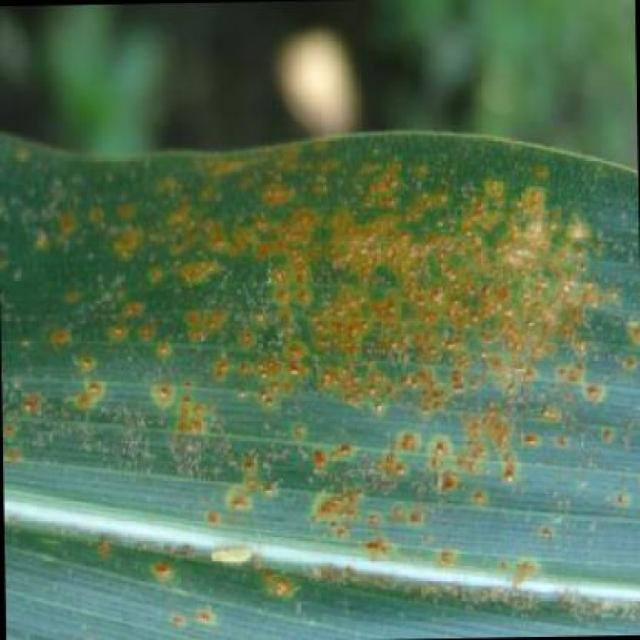Corn_Rust: (16, 116, 624, 618)
